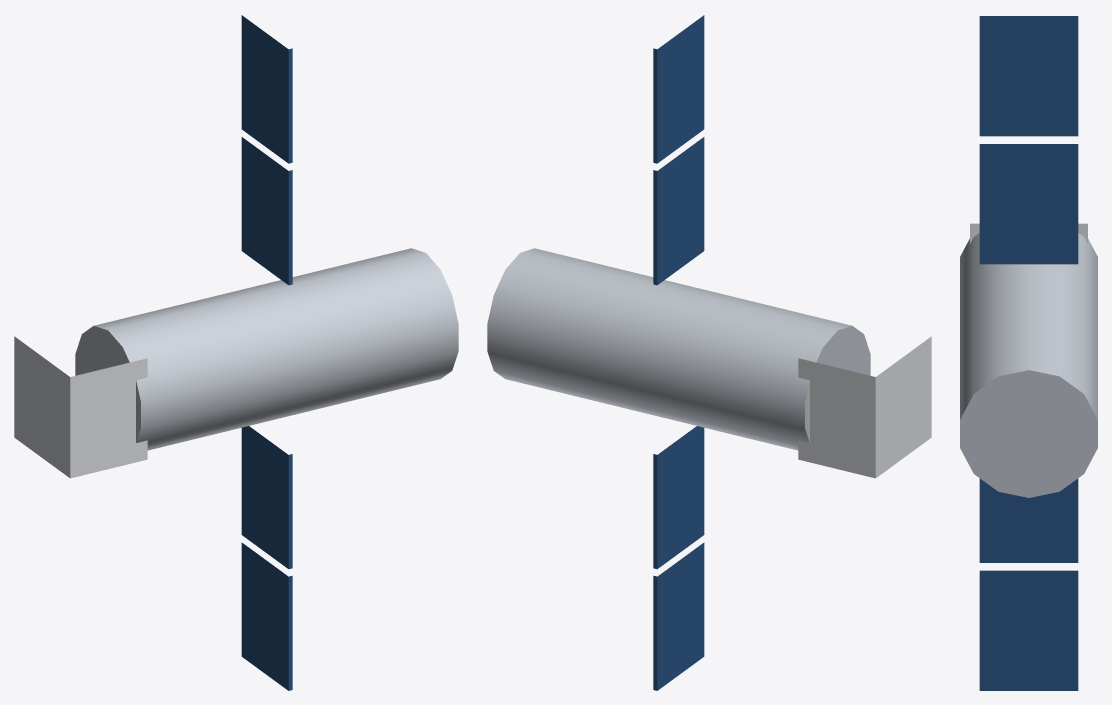
3 views of the same model, side by side, from view 1: azimuth 30°, elevation 25°; view 2: azimuth 150°, elevation 25°; view 3: azimuth 270°, elevation 25° (orthographic). The views are drawn at different scales.
Bounding box in the file's own units: 9.9 × 15.82 × 2.92.
